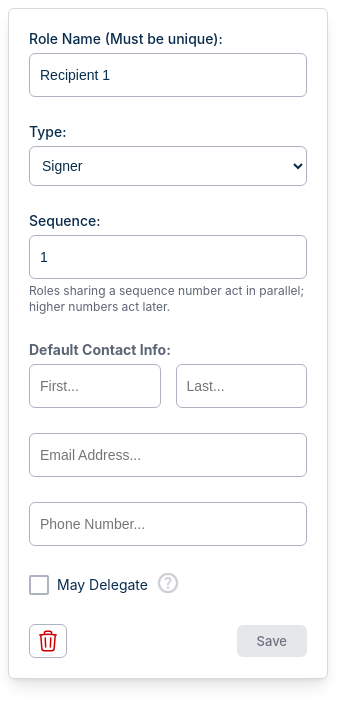
Test: TemplateRoleProperties › blocks saving while contact info is incomplete, and locks deletion while dirty
The width and height of the screenshot is (345, 705).
In the field named "First Name": (95, 386) [29,364,160,408], type "Jane"
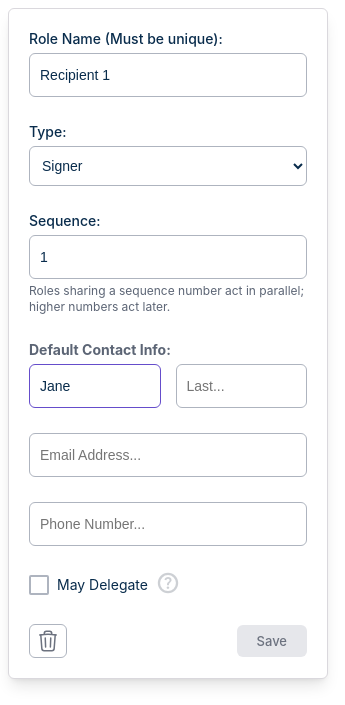
Expected: the button "Save" is disabled, [237,625,307,657]
Expected: the button named "Delete Role" is disabled, [29,624,67,658]
